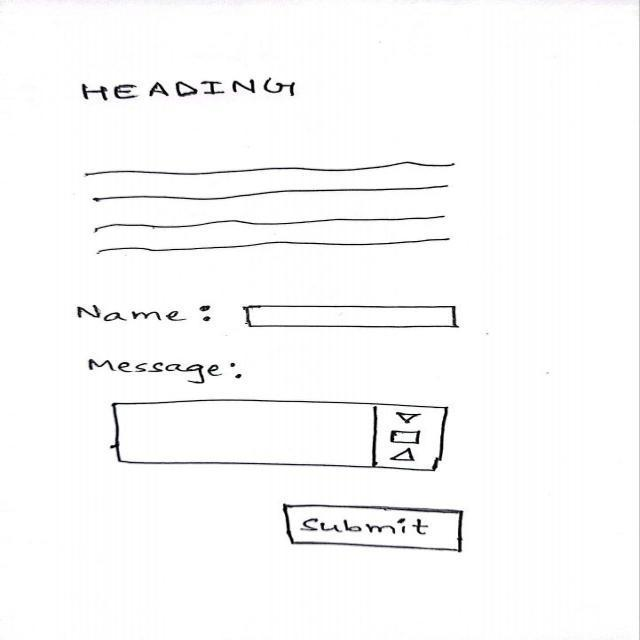textarea: (82, 394, 454, 477)
textbox: (230, 294, 466, 339)
